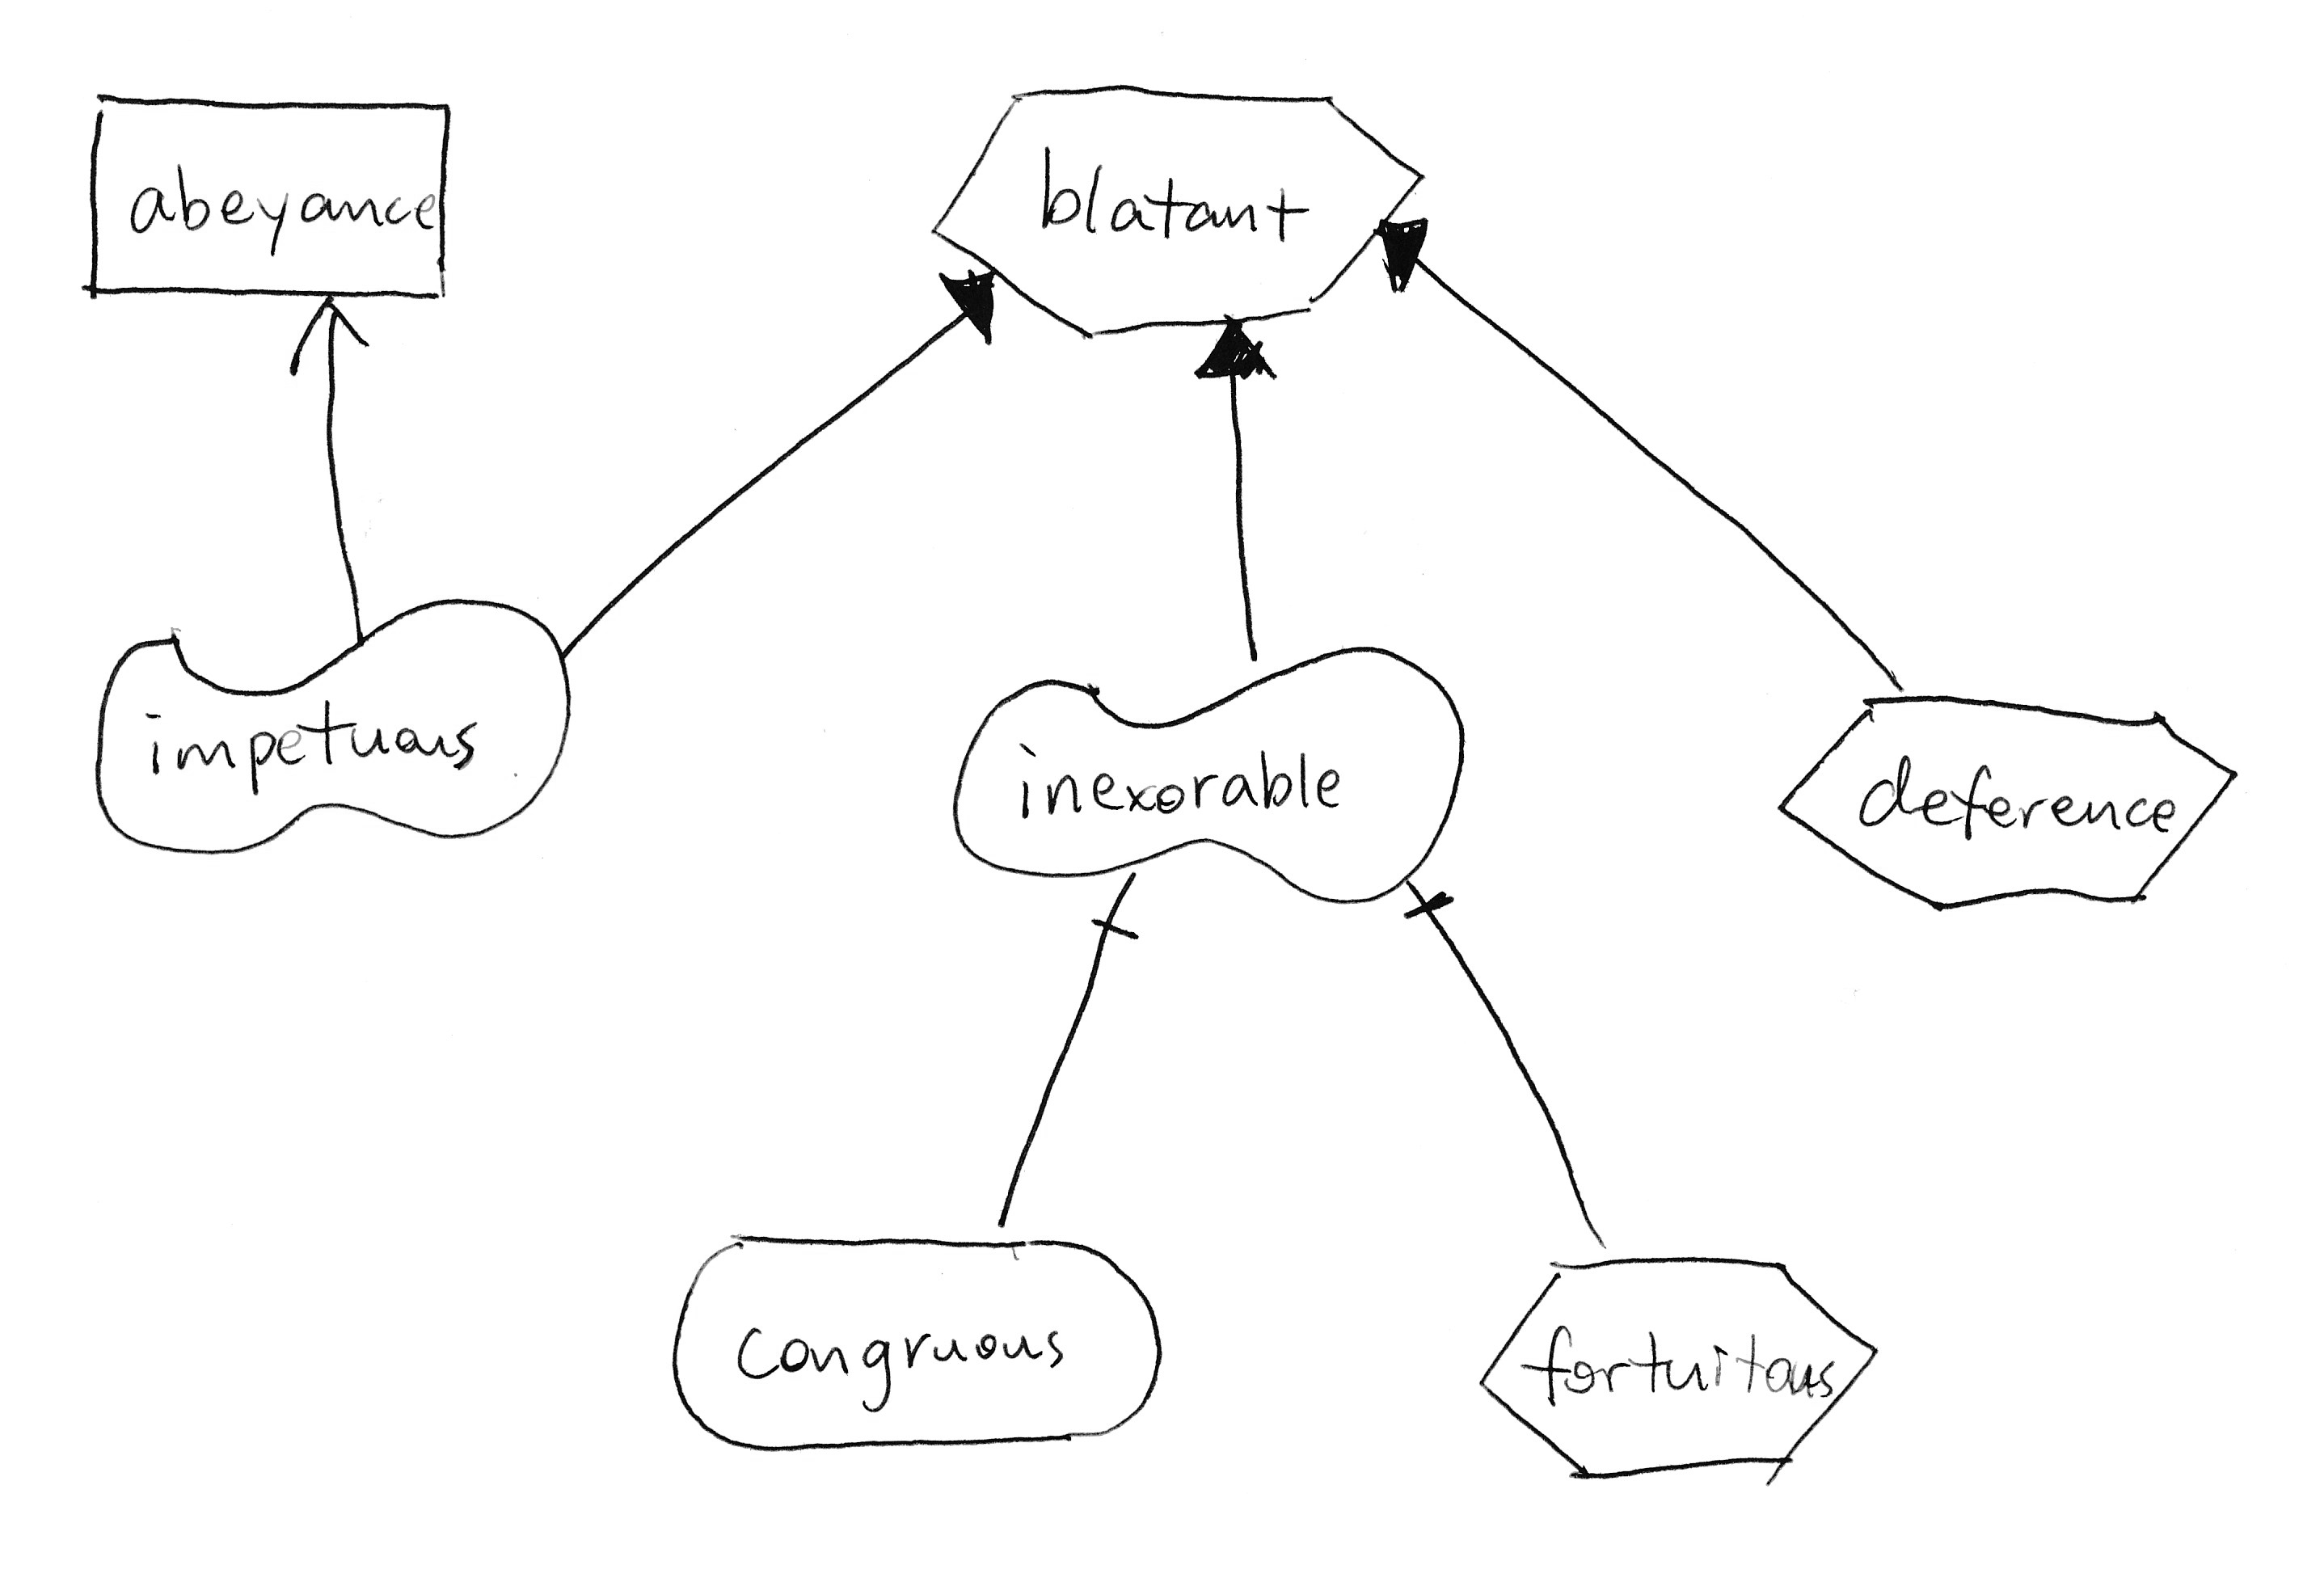and: (1077, 849, 1160, 969), (1380, 858, 1468, 939)
arrow: (271, 282, 394, 386)
goal: (653, 1212, 1176, 1465)
or: (923, 252, 1025, 359), (1183, 305, 1292, 403), (1364, 197, 1444, 306)
quality: (930, 630, 1482, 926), (67, 571, 592, 872)
resource: (70, 72, 477, 324)
task: (917, 55, 1456, 365), (1759, 669, 2254, 930), (1460, 1236, 1900, 1499)
